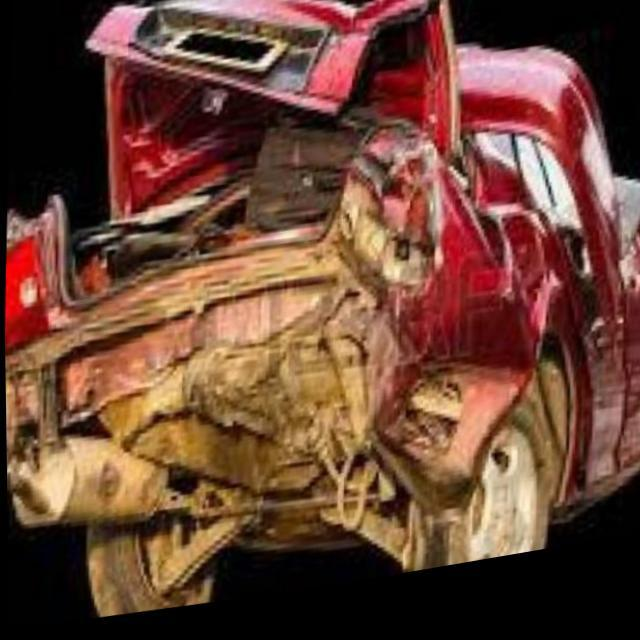crash: (4, 0, 640, 574)
